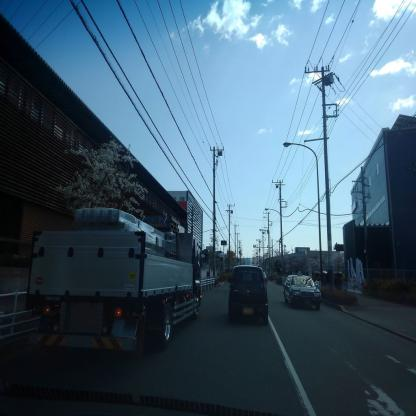Someiyoshino: (53, 129, 154, 228), (271, 245, 347, 274)
